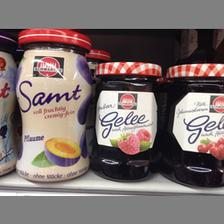Marmelade: (14, 29, 90, 181), (90, 60, 162, 182), (163, 64, 223, 188)
